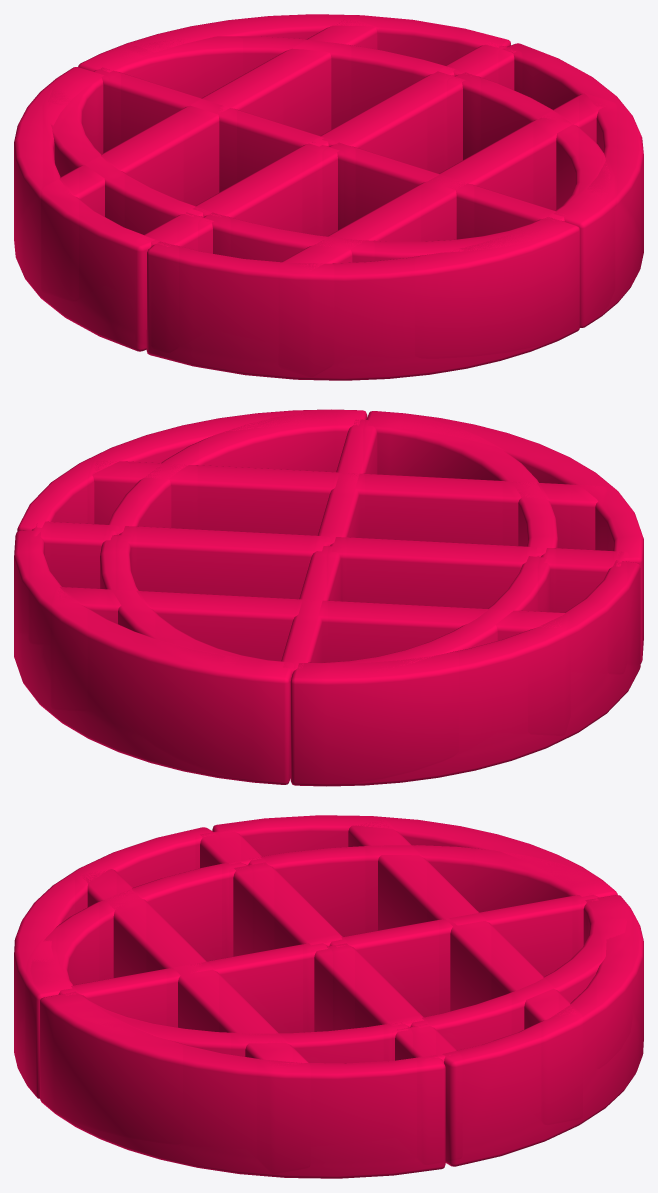
File: world_icon.glb
3 renders of one model, top to bottom at view 1: azimuth 30°, elevation 25°; view 2: azimuth 150°, elevation 25°; view 3: azimuth 270°, elevation 25°, orthographic. The views are drawn at different scales.
Parts seen in each view (by area): view 1: Circle010; view 2: Circle010; view 3: Circle010.
Boxes of the visible parts, <box> form: Circle010: <box>14,14,643,380</box>; Circle010: <box>14,409,643,786</box>; Circle010: <box>14,815,643,1178</box>.
Size of the model in its own units: 0.5209 by 0.0978 by 0.5299.
